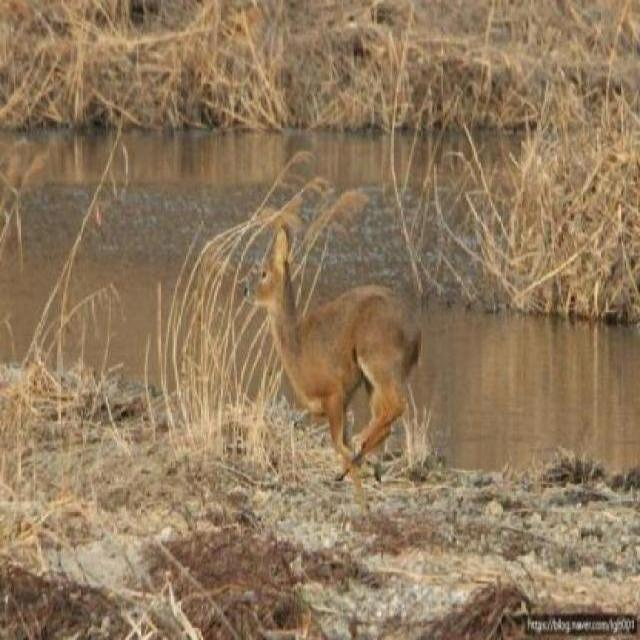deer: (246, 212, 423, 525)
